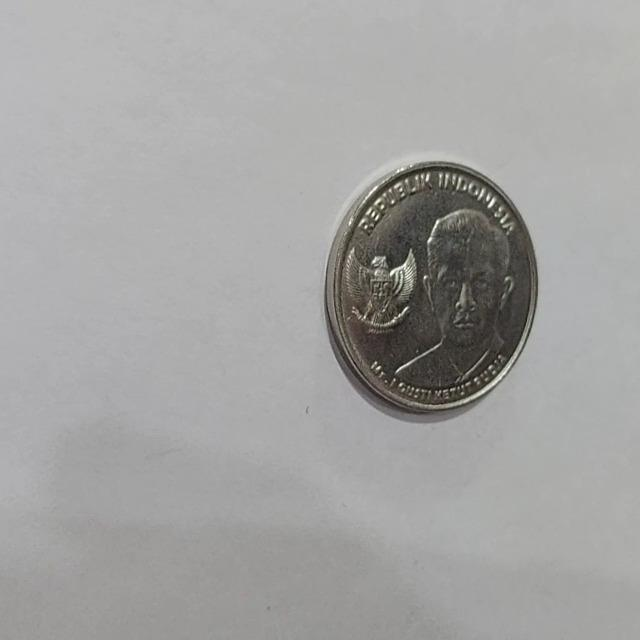Rp100: (323, 157, 539, 417)
